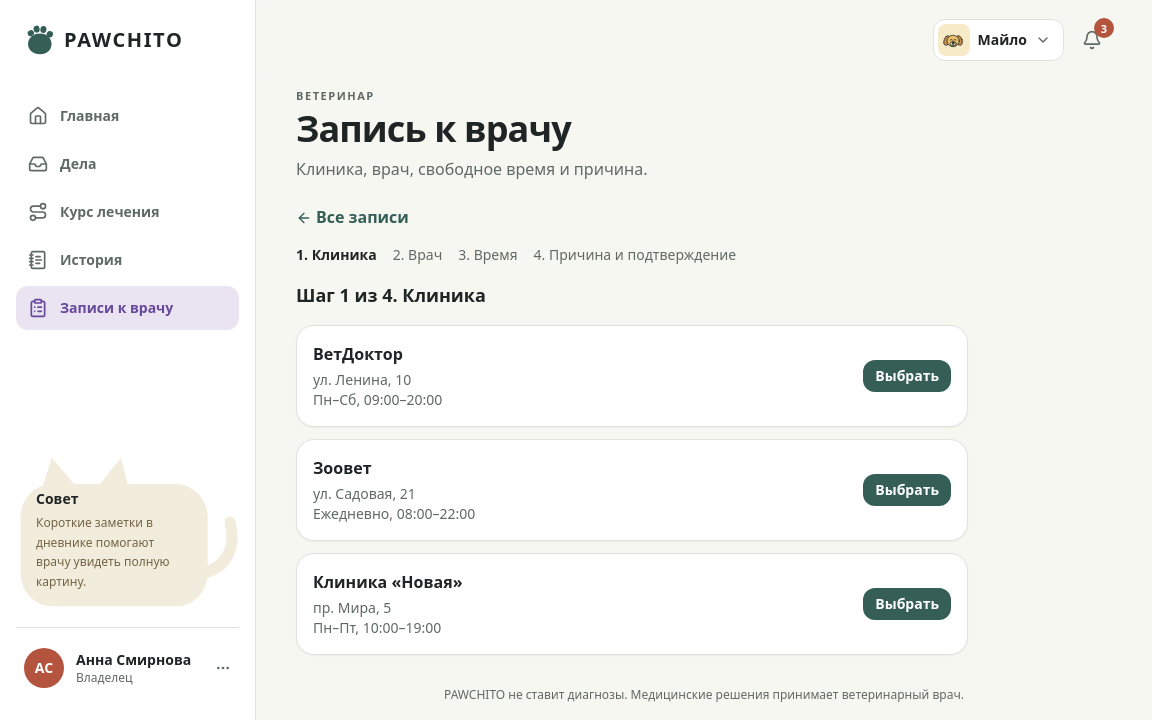
Test: мастер записи › воскресенье — клиника не работает; без запроса слотов
Click the button named "Выбрать: ВетДоктор" at (907, 376), box top-left (863, 360), bottom-right (951, 392)
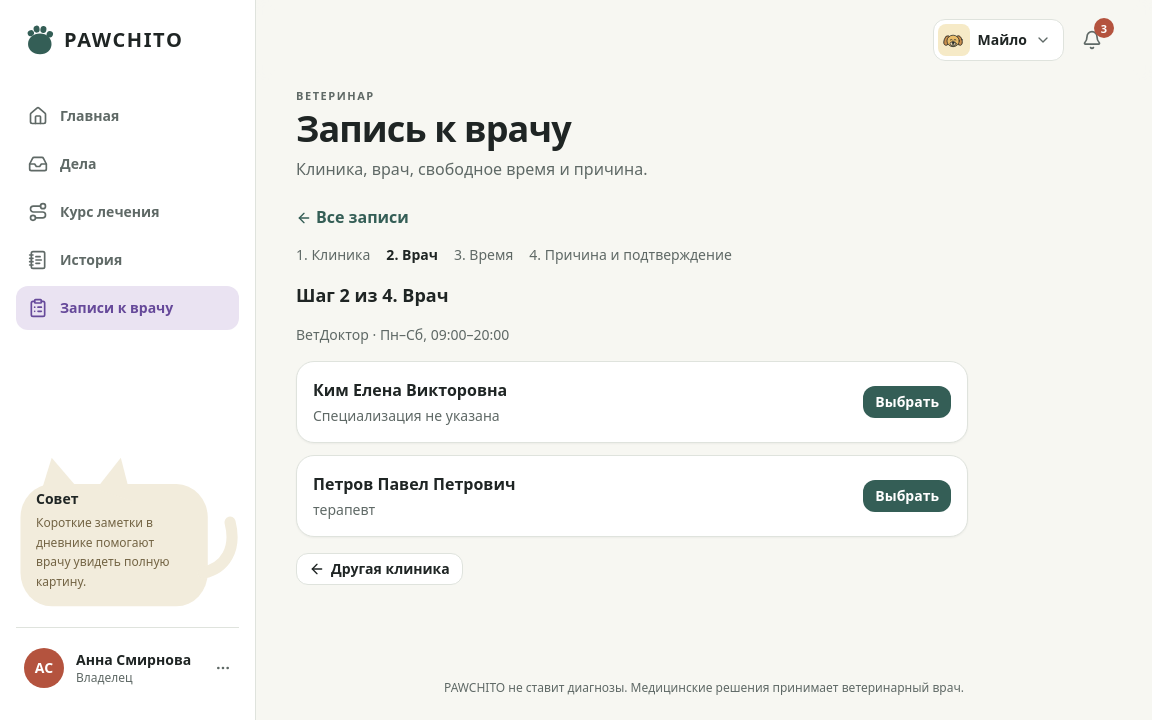
Click the button "Выбрать" in the row of "Ким Елена Викторовна" at (907, 402), box top-left (863, 386), bottom-right (951, 418)
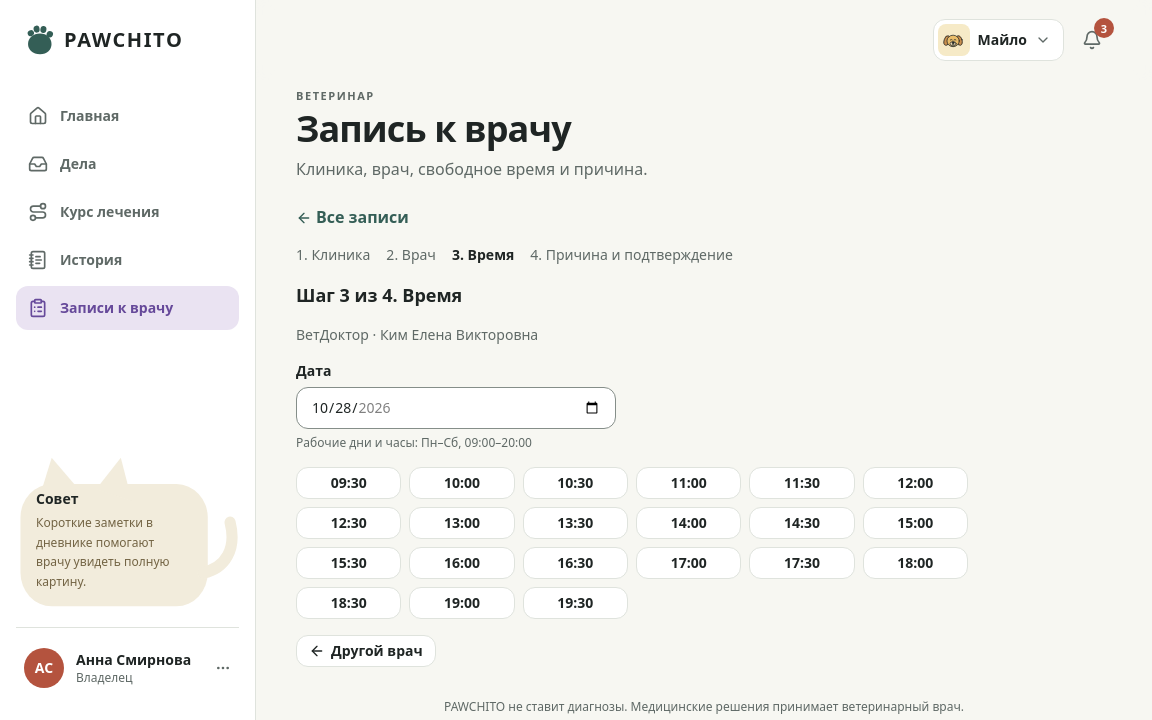
Type "2026-11-01" into the date field labelled "Дата" at (456, 408), box top-left (296, 386), bottom-right (616, 428)
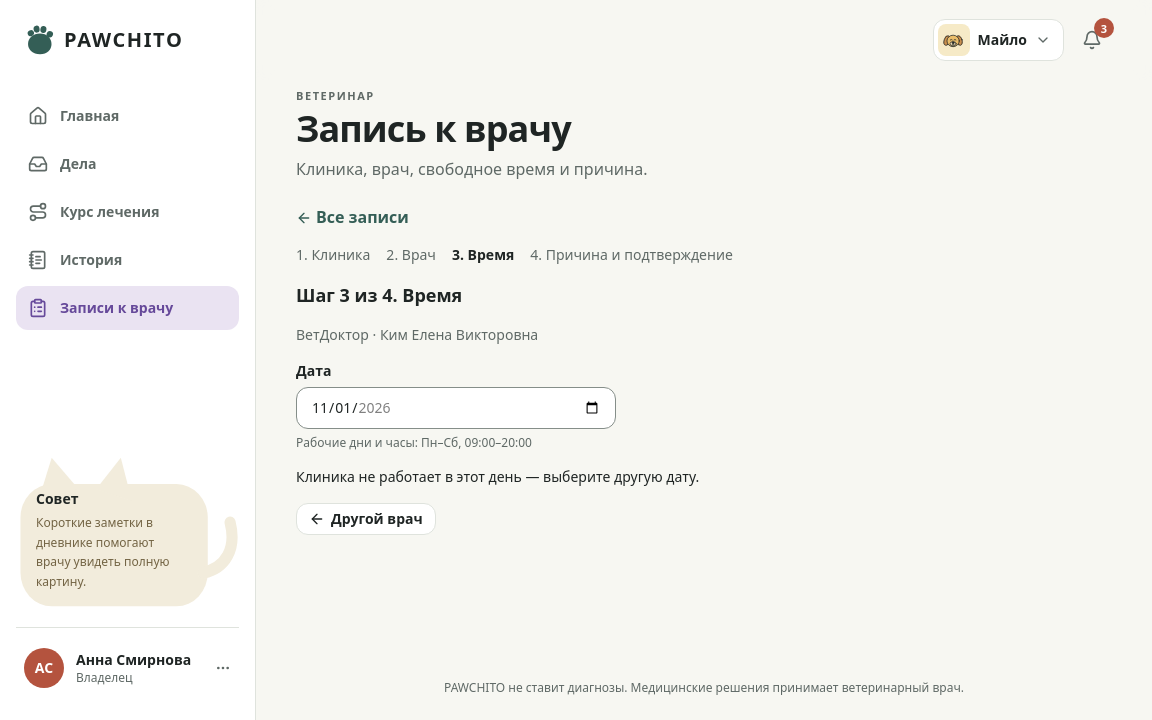
Result: the text "Клиника не работает в этот день — выберите другую дату." is shown at top-left (296, 466), bottom-right (699, 486)
